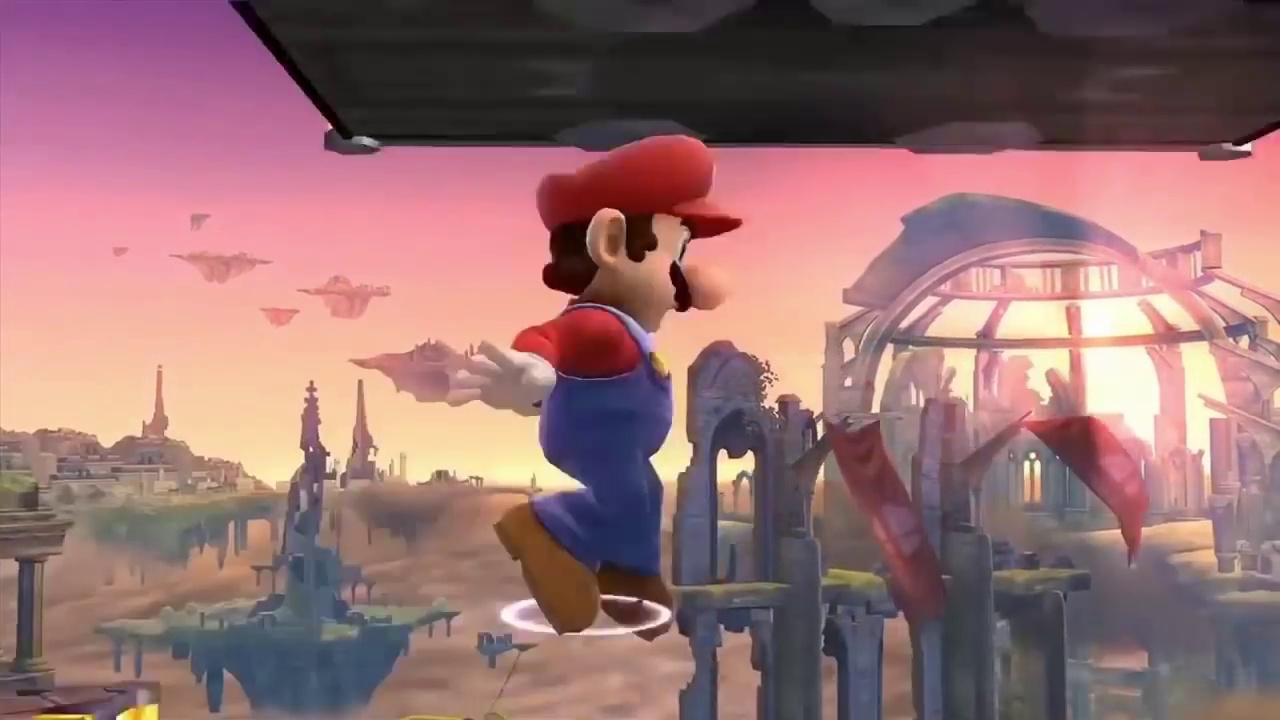Mario: (458, 133, 743, 652)
